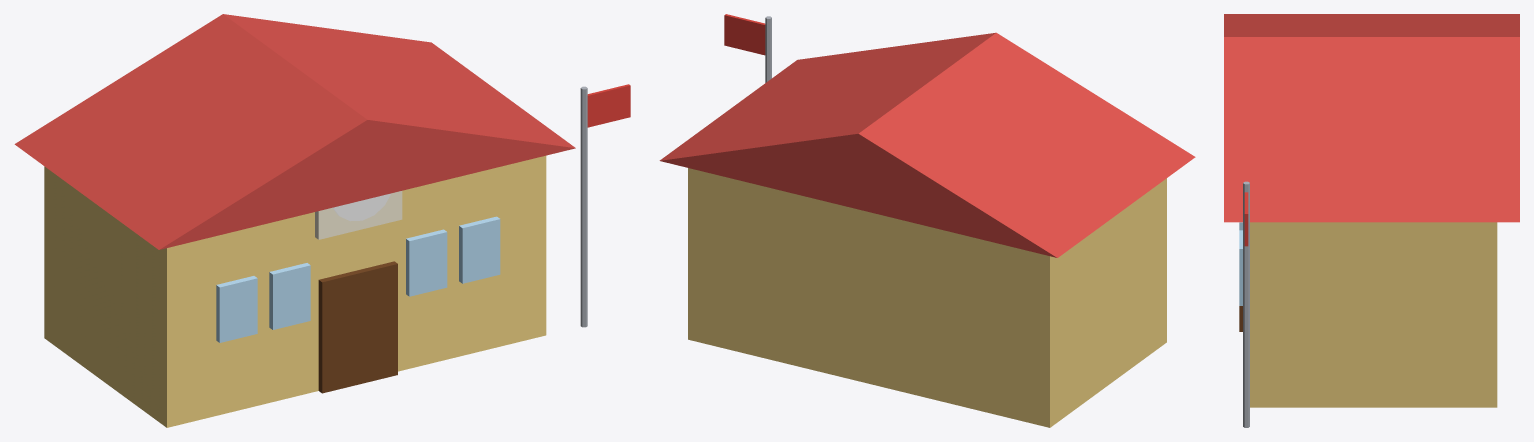
The model's file is b_school.glb.
The picture shows the model from 3 angles, left to right: view 1: azimuth 30°, elevation 25°; view 2: azimuth 150°, elevation 25°; view 3: azimuth 270°, elevation 25°; orthographic projection. The views are drawn at different scales.
Parts seen in each view (by area): view 1: Roof, Walls, Door, Win.003, Win, Win.001, Win.002, Pole, Clock, Flag, ClockFace; view 2: Walls, Roof, Flag; view 3: Roof, Walls, Pole, Win.003.
Boxes of the visible parts, left/top/right/bottom form: Roof: left=14, top=14, right=575, bottom=249; Walls: left=44, top=155, right=546, bottom=427; Door: left=318, top=261, right=397, bottom=393; Win.003: left=459, top=216, right=500, bottom=283; Win: left=216, top=276, right=257, bottom=342; Win.001: left=269, top=263, right=310, bottom=329; Win.002: left=406, top=229, right=447, bottom=296; Pole: left=580, top=86, right=587, bottom=327; Clock: left=315, top=191, right=402, bottom=239; Flag: left=587, top=84, right=630, bottom=127; ClockFace: left=332, top=193, right=391, bottom=221; Walls: left=688, top=168, right=1166, bottom=427; Roof: left=659, top=32, right=1195, bottom=257; Flag: left=724, top=14, right=765, bottom=55; Roof: left=1224, top=14, right=1519, bottom=222; Walls: left=1250, top=222, right=1497, bottom=407; Pole: left=1243, top=181, right=1249, bottom=427; Win.003: left=1239, top=230, right=1242, bottom=305.
Bounding box in the file's own units: 6.35 × 3.4 × 3.3.
